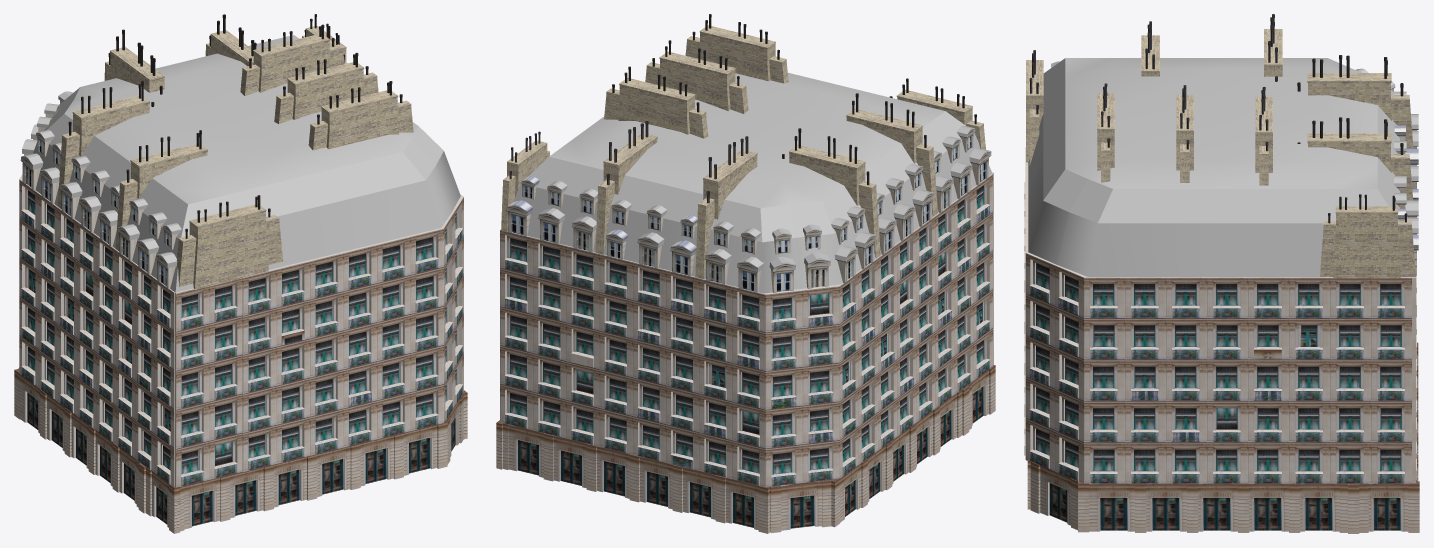
File: BuildingB.fbx
3 views of the same model, side by side, from view 1: azimuth 30°, elevation 25°; view 2: azimuth 150°, elevation 25°; view 3: azimuth 270°, elevation 25° (orthographic). The views are drawn at different scales.
Visible parts, largest first — view 1: pPlane323; view 2: pPlane323; view 3: pPlane323.
Part boxes in pixels (box(x1,y1,x2,y2)): pPlane323: box(14, 14, 467, 533); pPlane323: box(496, 14, 995, 533); pPlane323: box(1024, 14, 1419, 533).
Size of the model in its own units: 680 by 735 by 681.
